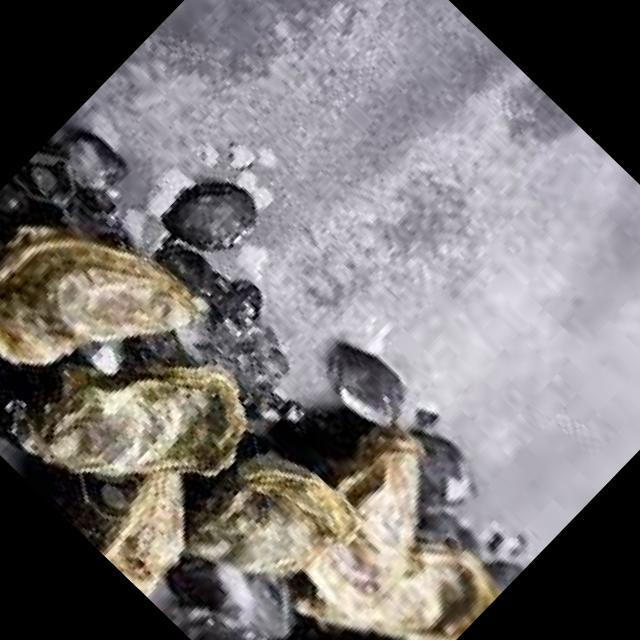Oyster-Closed: (0, 231, 203, 367), (8, 367, 248, 478), (296, 541, 501, 640), (188, 456, 355, 577), (332, 431, 432, 550), (107, 472, 186, 587)
